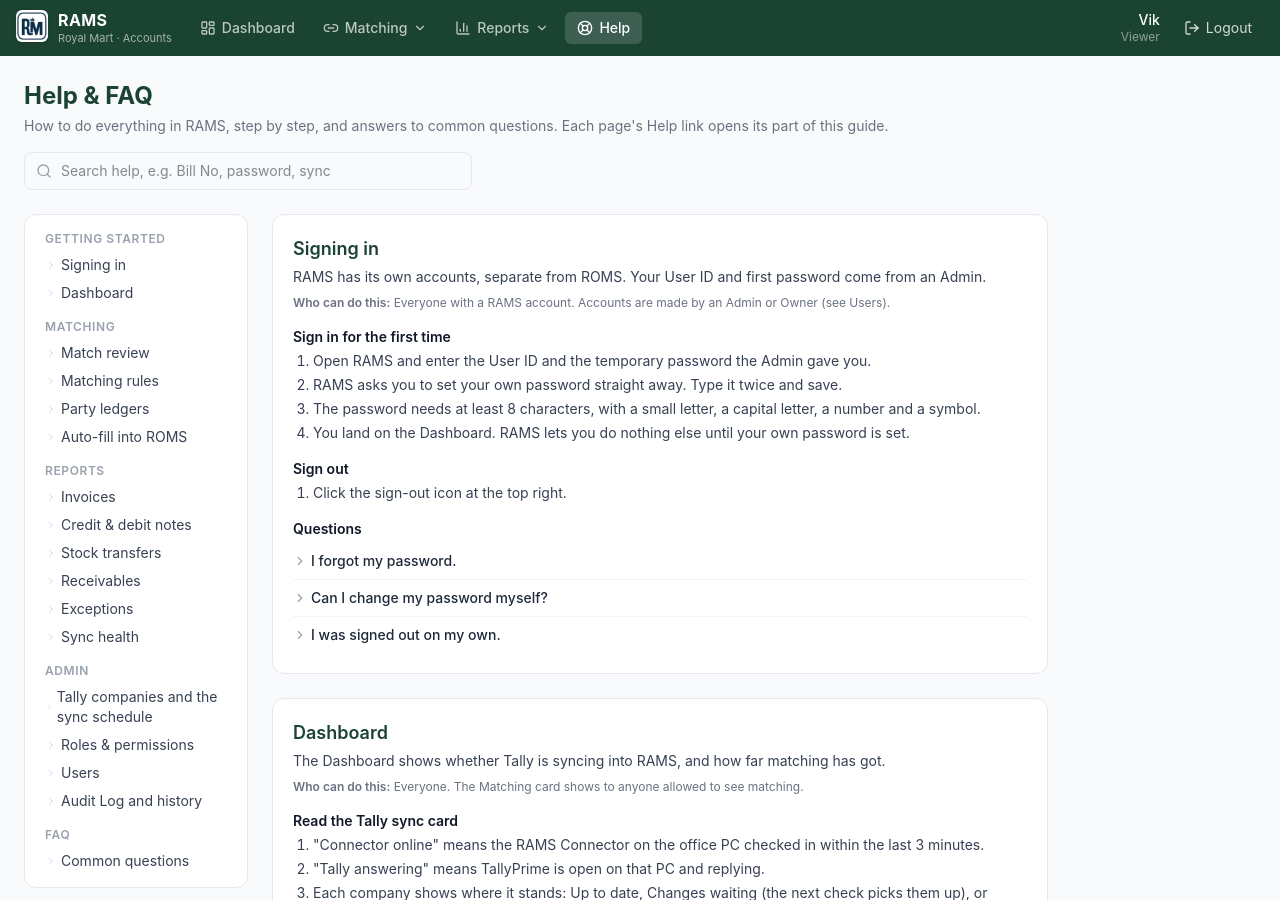
Test: Help & FAQ › shows every guide with its steps and who can do it, and the search narrows it down
Type "forgot password" into the search field labelled "Search help" at (248,171), box [24,152,472,190]
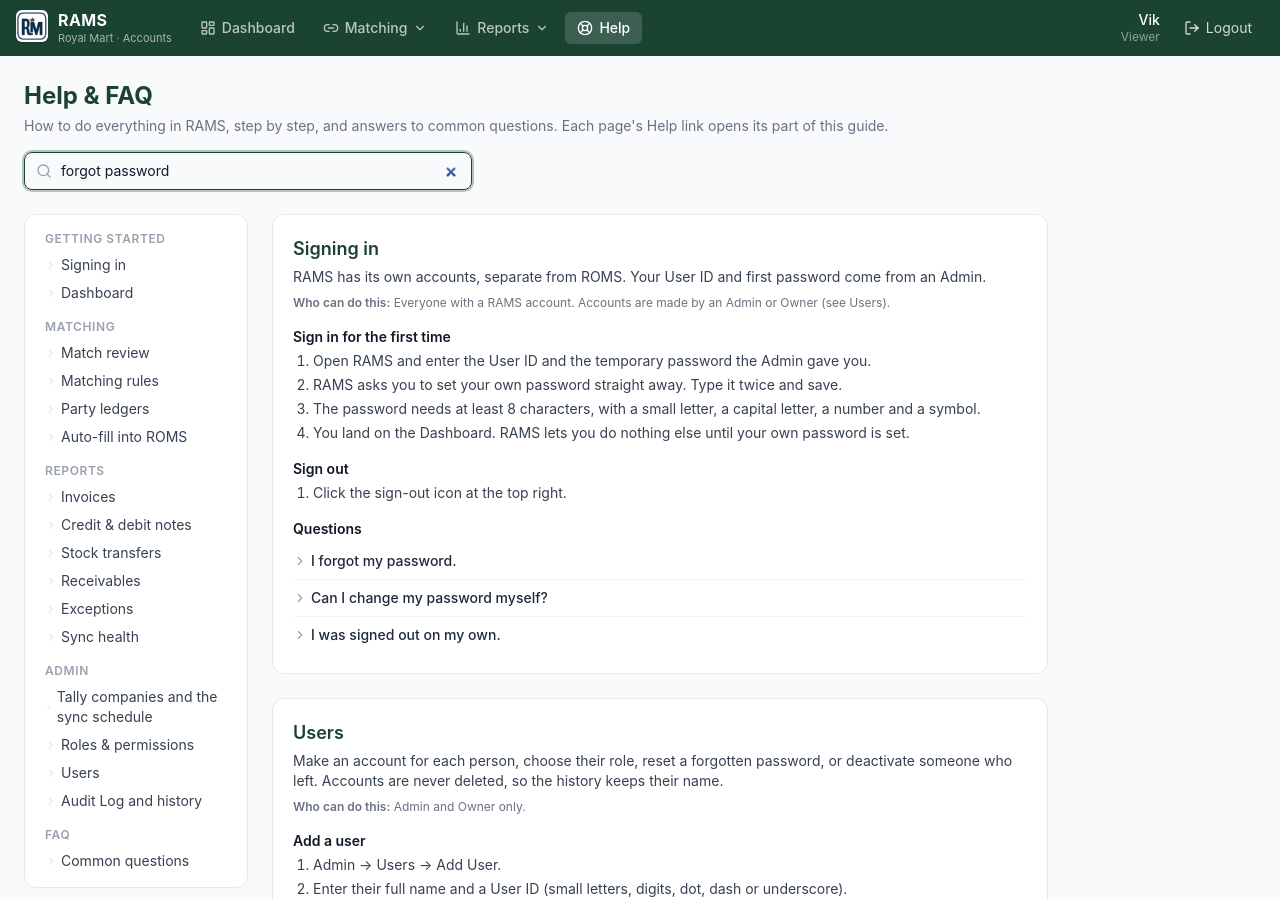
Expected: the heading "Signing in" is shown, [293,238,379,259]
Replace the text in the search field named "Search help" with "zzzz" at (248,171), box [24,152,472,190]
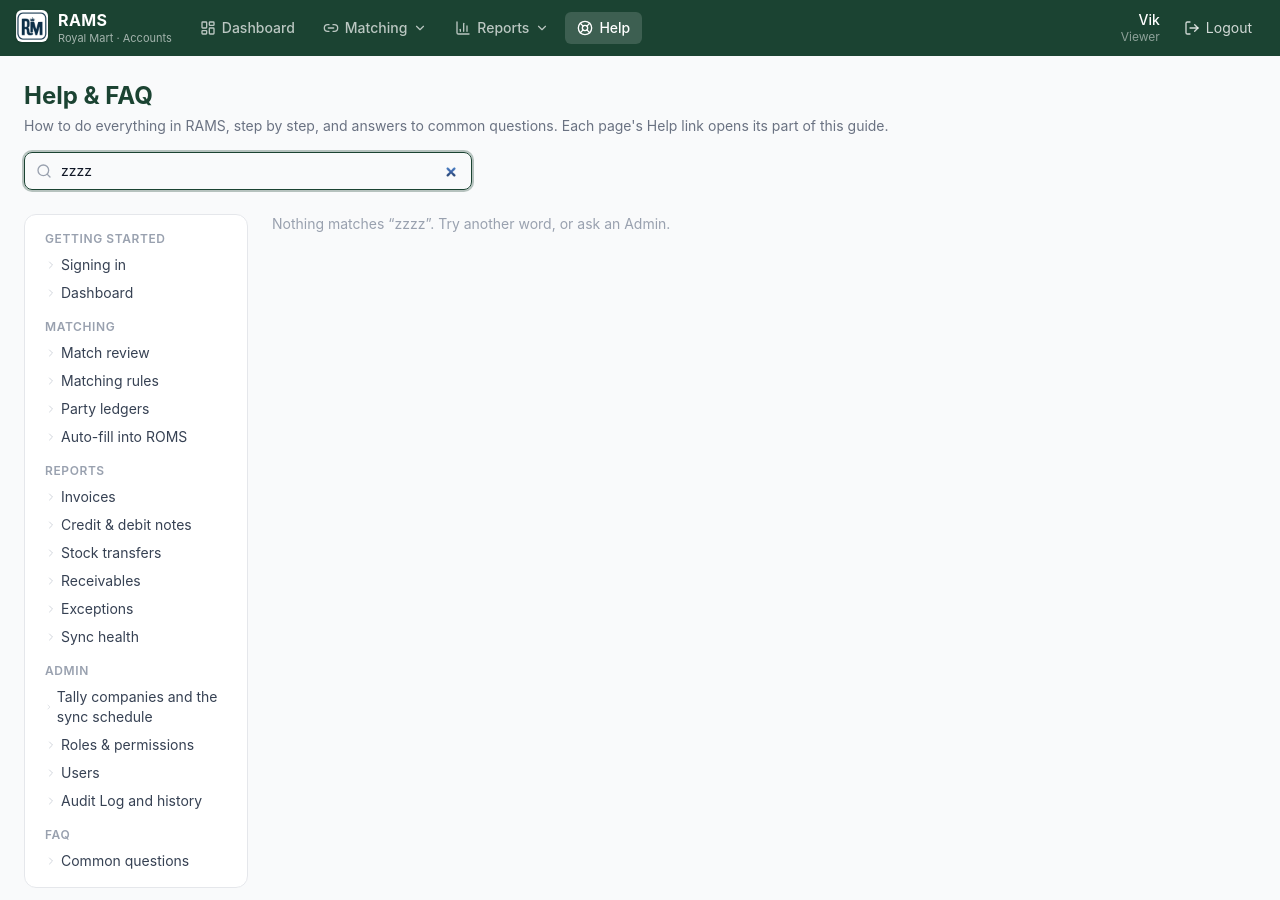
Now the text "Nothing matches “zzzz”. Try another word, or ask an Admin." is shown, box [272,215,670,232]
